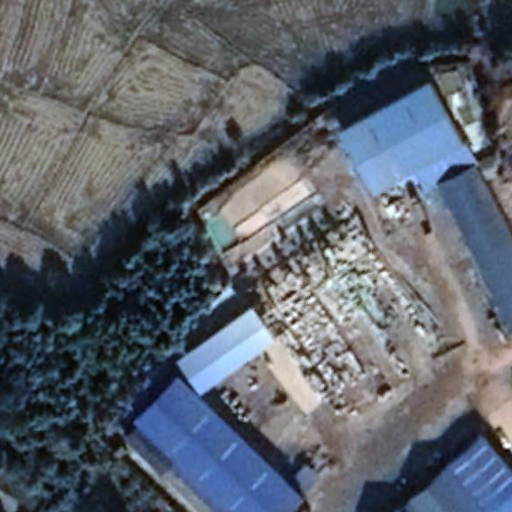msw: (272, 247, 426, 402)
